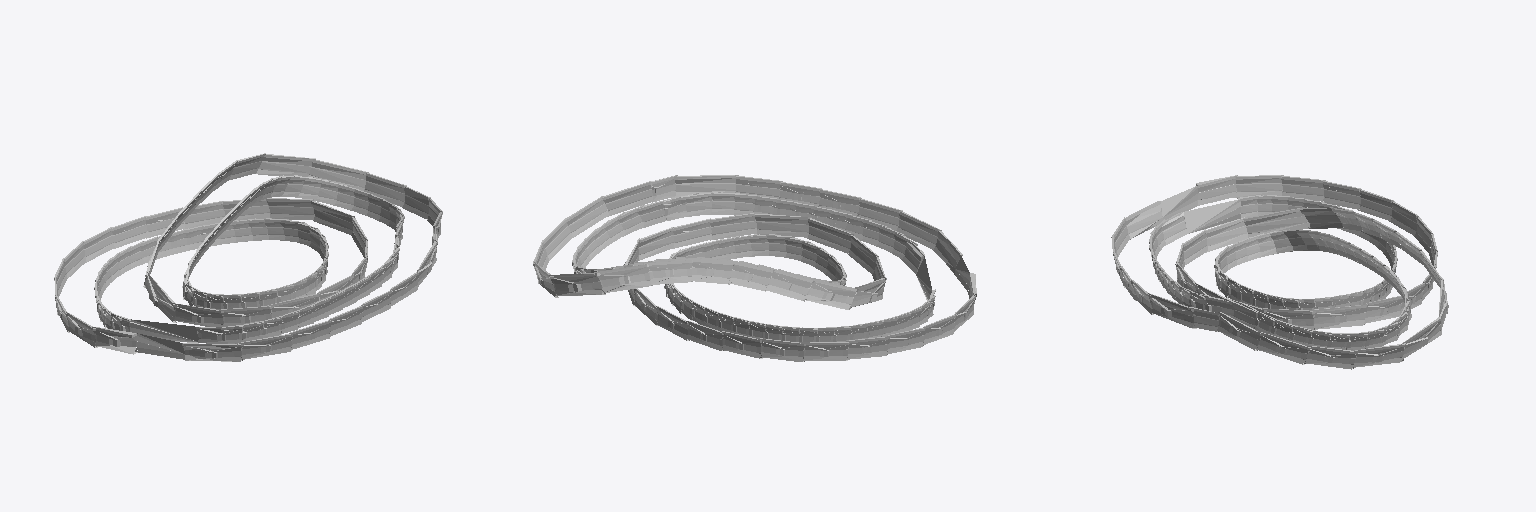
The model's file is blank1.obj.
3 renders of one model, left to right at view 1: azimuth 30°, elevation 25°; view 2: azimuth 150°, elevation 25°; view 3: azimuth 270°, elevation 25°, orthographic.
Size of the model in its own units: 199 by 35.19 by 154.